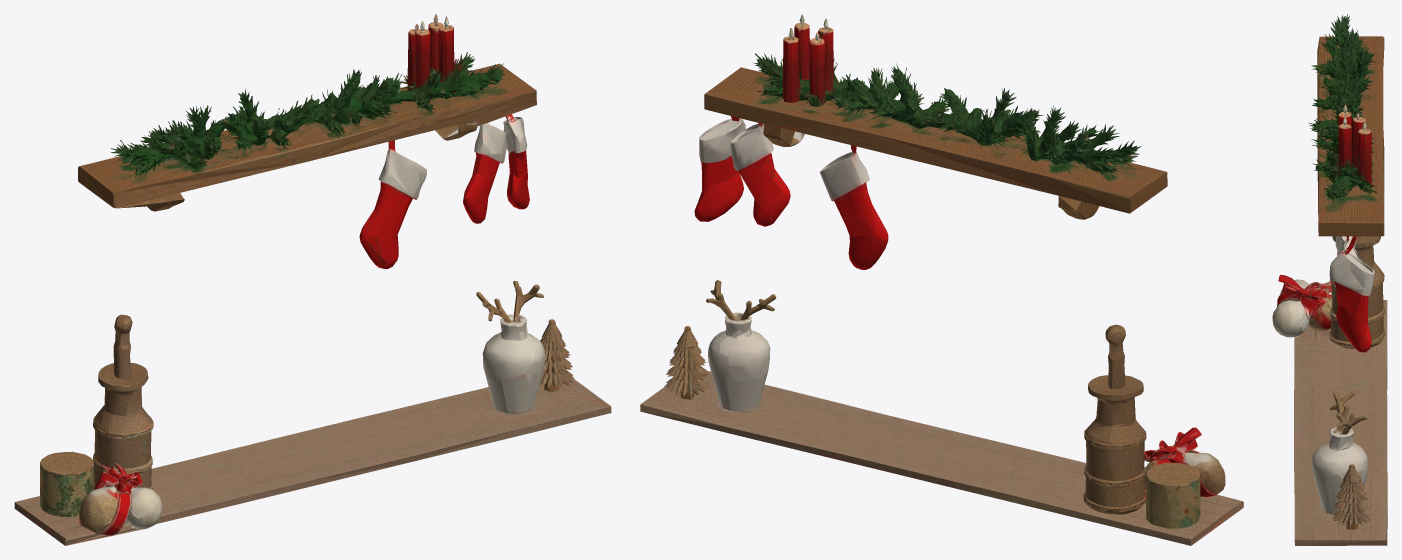
The model's file is xmas_fireplace.glb.
The picture shows the model from 3 angles, left to right: view 1: azimuth 30°, elevation 25°; view 2: azimuth 150°, elevation 25°; view 3: azimuth 270°, elevation 25°; orthographic projection. The views are drawn at different scales.
Size of the model in its own units: 1.9 by 1.37 by 0.3849.
1 material, 1 textured.
